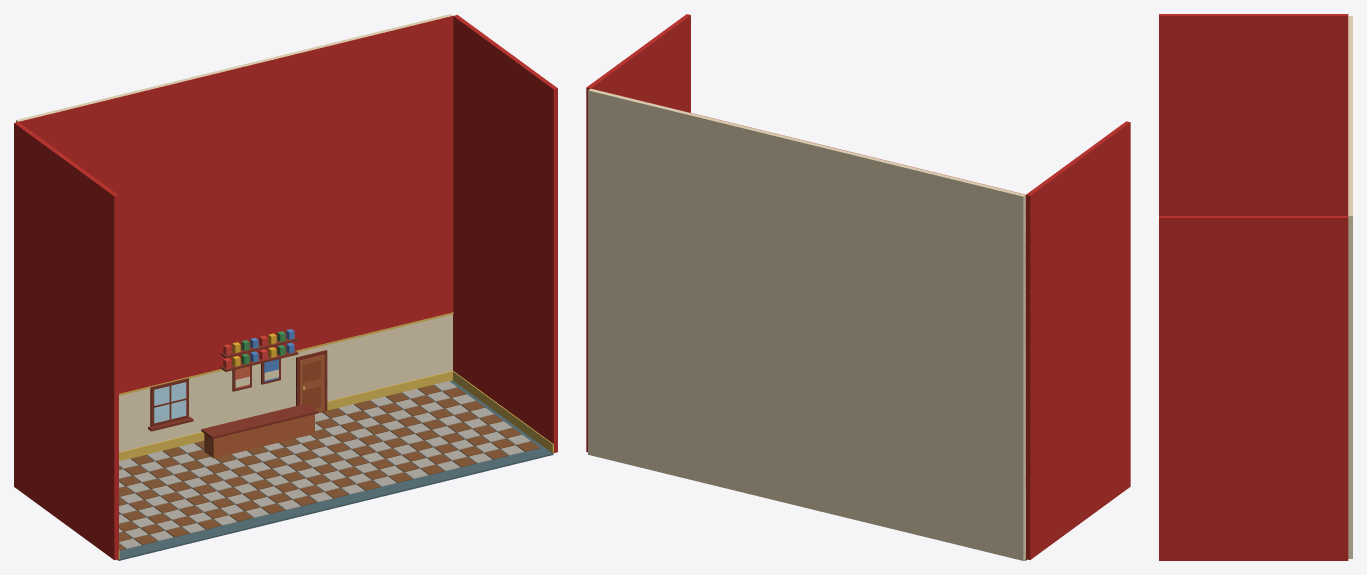
File: room_russia_shop.glb
The picture shows the model from 3 angles, left to right: view 1: azimuth 30°, elevation 25°; view 2: azimuth 150°, elevation 25°; view 3: azimuth 270°, elevation 25°; orthographic projection. The views are drawn at different scales.
Visible parts, largest first — view 1: room; view 2: room; view 3: room.
Boxes of the visible parts, <box> form: room: <box>14,14,557,560</box>; room: <box>586,14,1130,560</box>; room: <box>1159,14,1352,560</box>.
Bounding box in the file's own units: 30.6 × 24.11 × 12.3.
